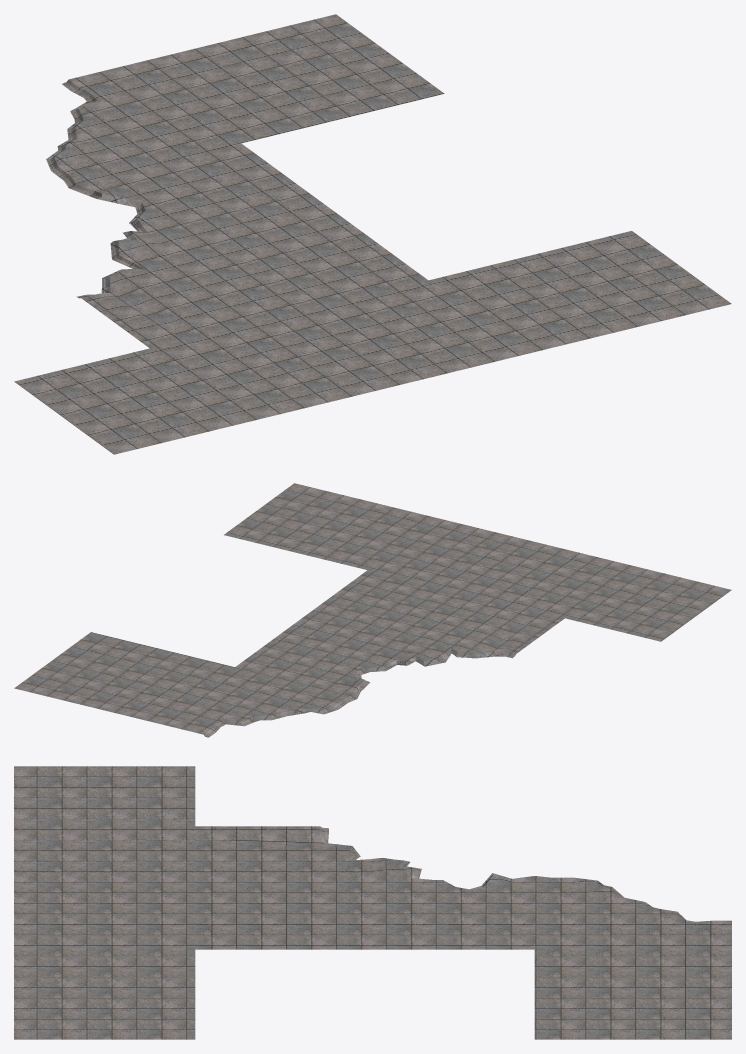
File: floorHoleInGround.fbx
3 views of the same model, one above another, from view 1: azimuth 30°, elevation 25°; view 2: azimuth 150°, elevation 25°; view 3: azimuth 270°, elevation 25° (orthographic). The views are drawn at different scales.
Parts seen in each view (by area): view 1: side02Lower; view 2: side02Lower; view 3: side02Lower.
Part boxes in pixels (box(x1,y1,x2,y2)): side02Lower: box(14, 14, 731, 454); side02Lower: box(14, 483, 731, 737); side02Lower: box(14, 766, 731, 1039).
Size of the model in its own units: 41 by 0.7512 by 45.5.
1 material, 1 textured.
